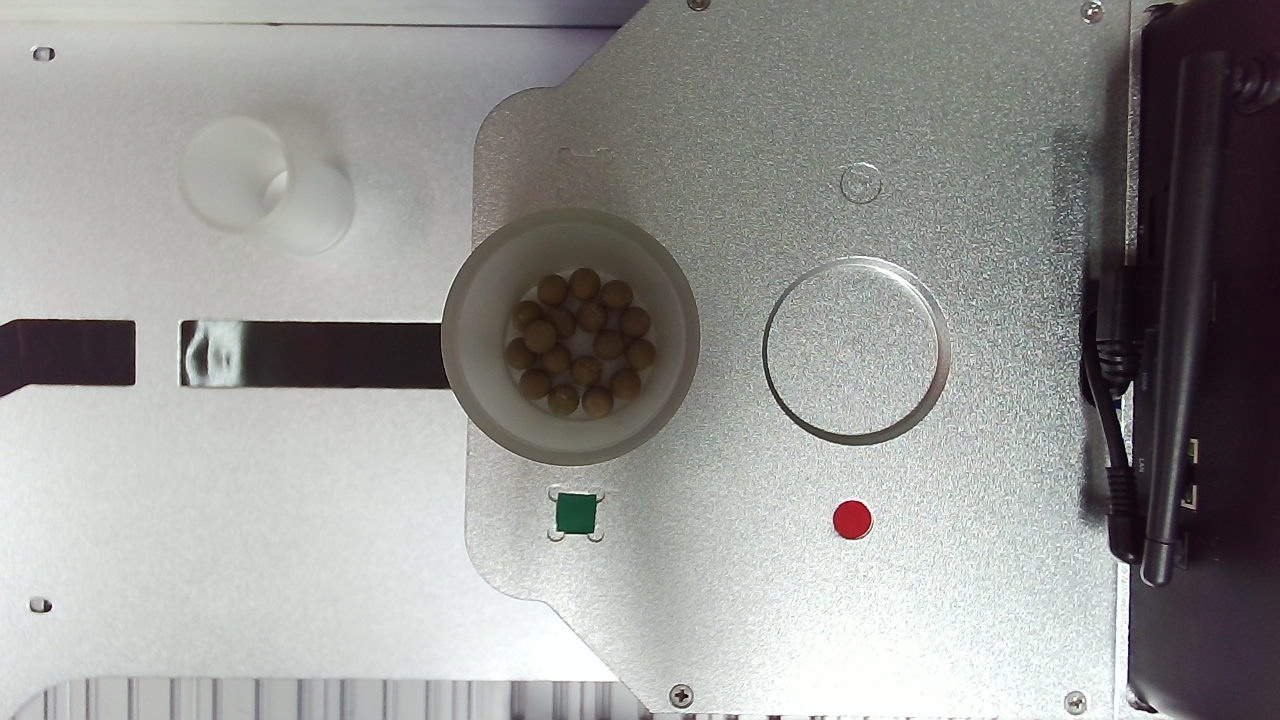XLabel: (264, 15, 332, 84)
YLabel: (679, 52, 751, 130)
none: (100, 143, 418, 473)
whiteempty: (510, 140, 900, 519)
